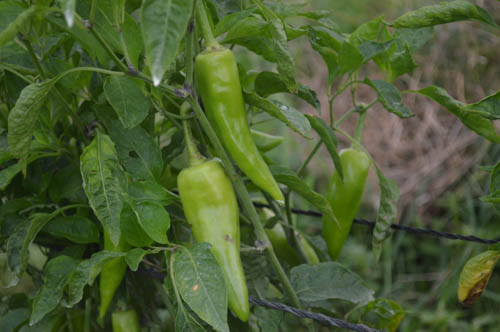ChiliPepper: (196, 49, 286, 202), (182, 163, 250, 319), (322, 149, 369, 264), (96, 229, 132, 313)
